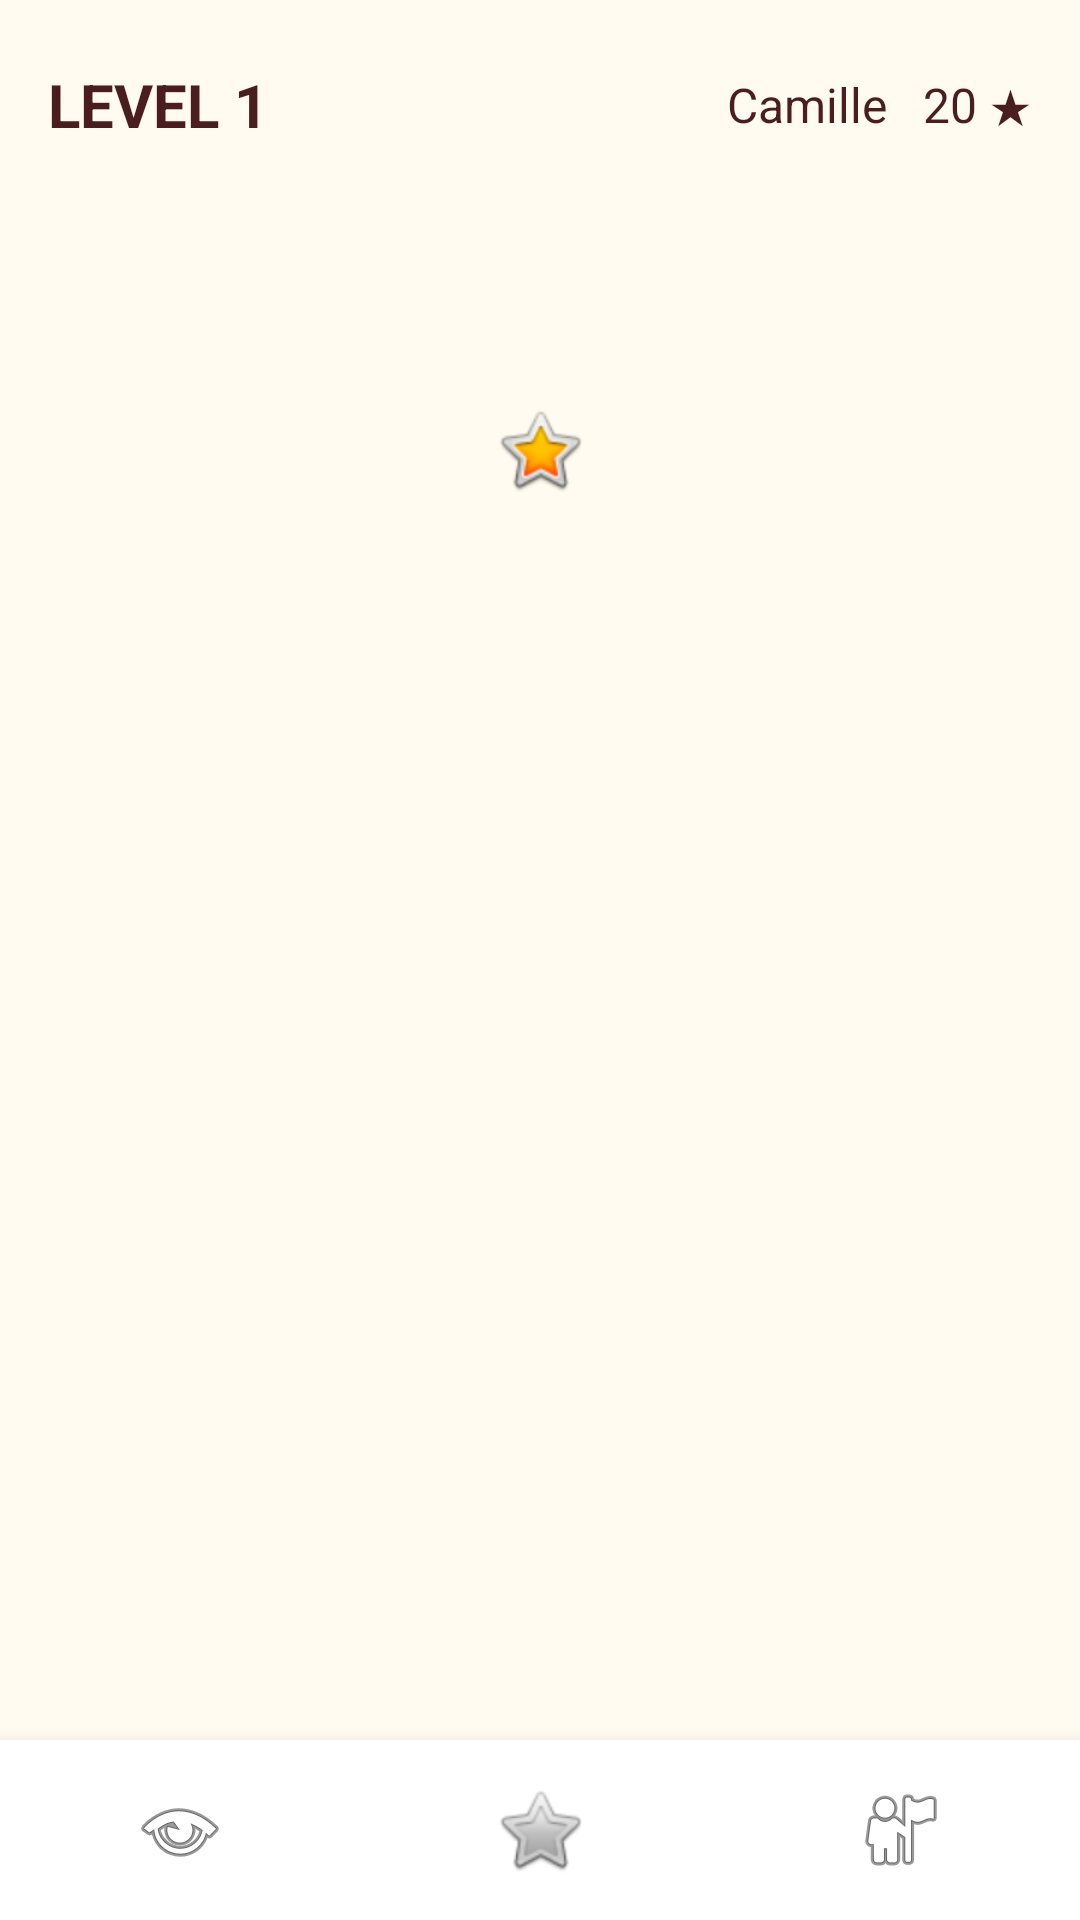

Point at icon controls on the screen. Image size 1080×1920, points as [x,y].
myplaces: [901,1830]
star off: [541,1831]
star on: [541,451]
view: [180,1832]
